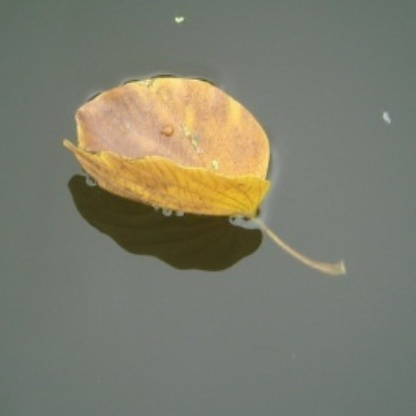leaf: (63, 74, 352, 285)
